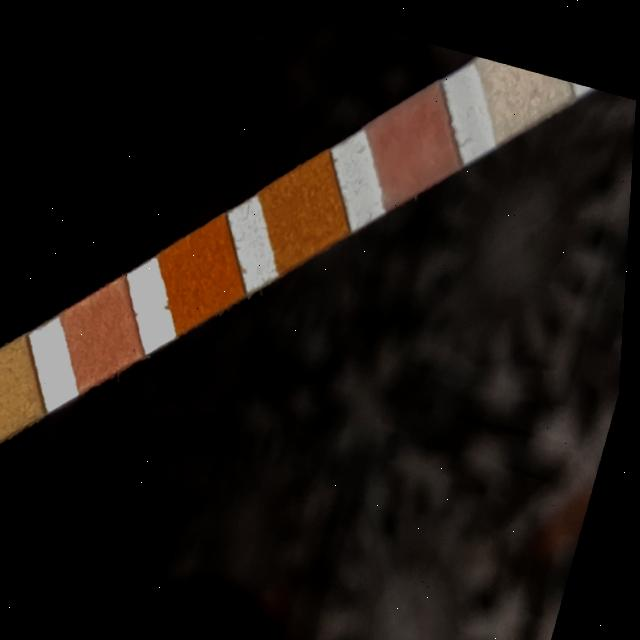Bilirubin: (490, 55, 557, 113)
Blood: (175, 228, 240, 315)
Ketone: (382, 98, 452, 183)
Protein: (0, 357, 41, 433)
SpGravity: (274, 166, 341, 251)
pH: (77, 289, 136, 374)
